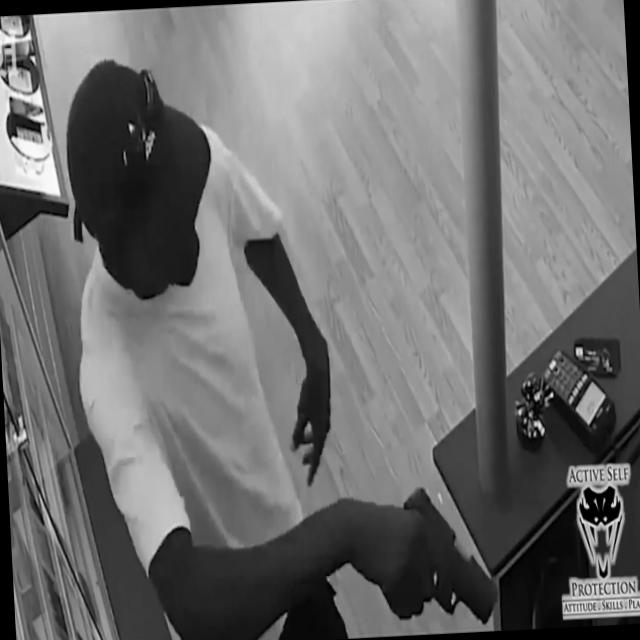gun: (378, 479, 496, 633)
person with a gun: (59, 45, 497, 640)
